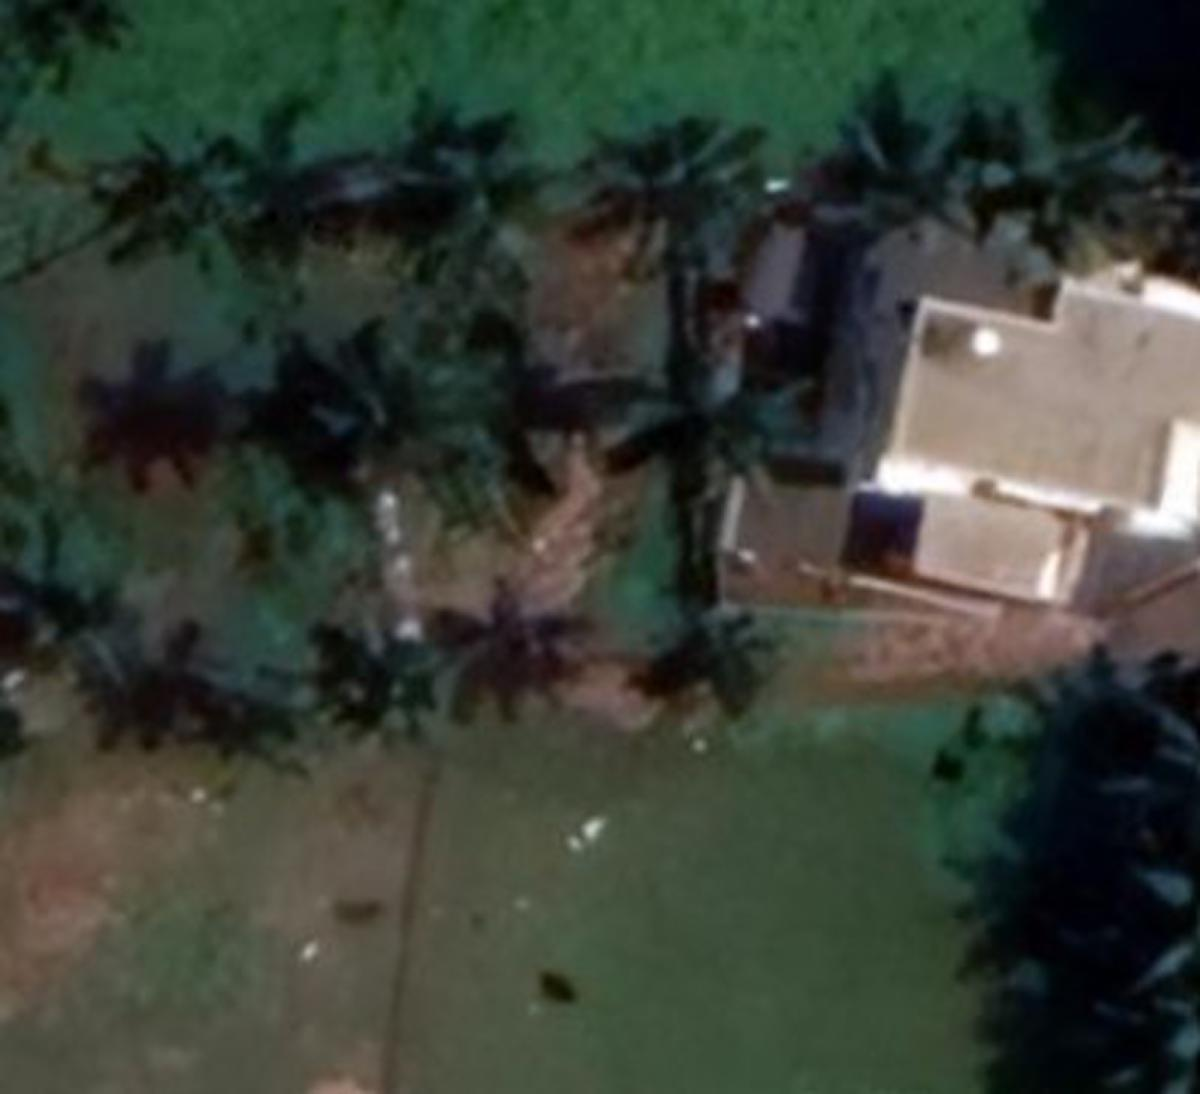coconut: (592, 341, 794, 495), (374, 93, 541, 271), (247, 311, 405, 478), (797, 84, 955, 238), (111, 129, 275, 275), (622, 123, 770, 262), (655, 580, 776, 701), (323, 622, 447, 737)
